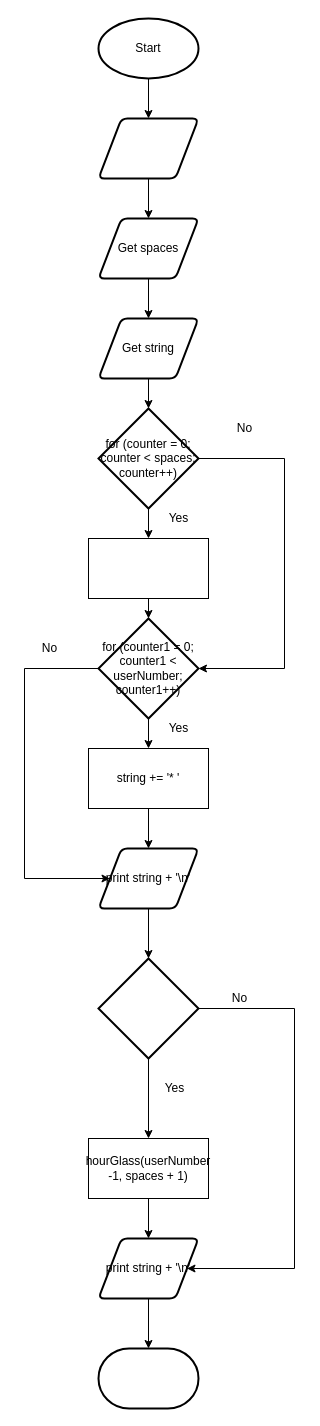
The diagram is 320 pixels wide and 1426 high, and some of its shapes have lost their labels. The box of each missing label's shape, as (x1, y1, x2, y2) in pixels:
End: (97, 1347, 199, 1409)
Get userNumber: (97, 117, 199, 179)
if (userNumber > 1): (97, 957, 199, 1059)
string += ' ': (88, 538, 208, 598)
